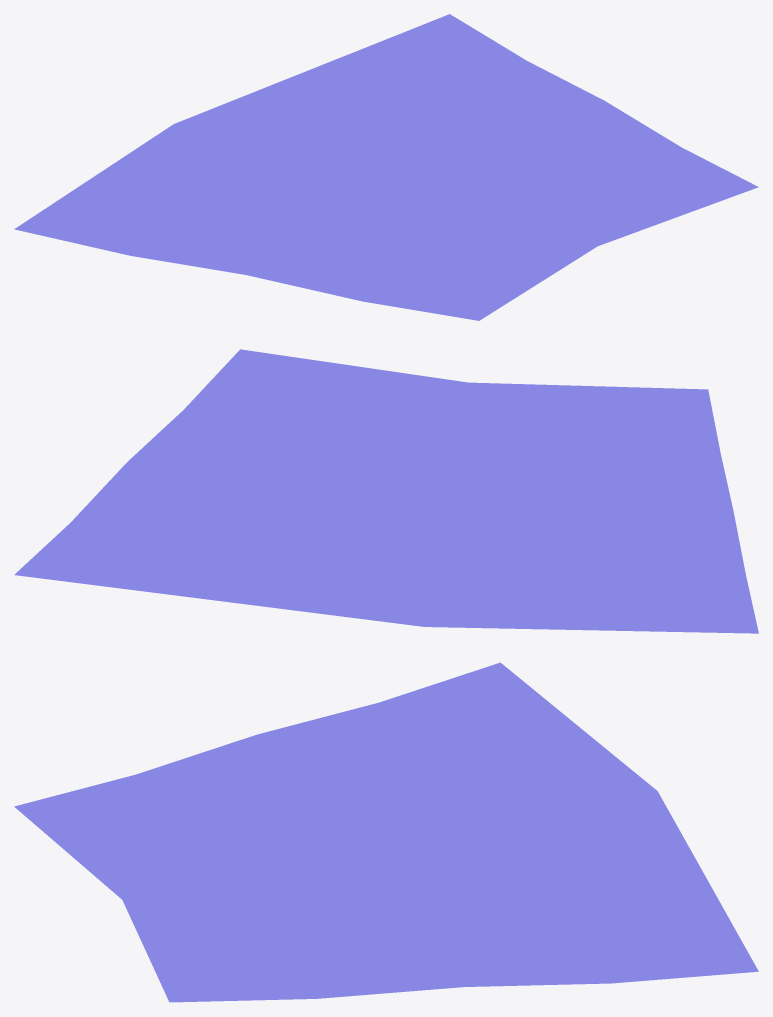
File: track_la_coll_road_25.fbx
3 renders of one model, top to bottom at view 1: azimuth 30°, elevation 25°; view 2: azimuth 150°, elevation 25°; view 3: azimuth 270°, elevation 25°, orthographic. The views are drawn at different scales.
Parts seen in each view (by area): view 1: track_la_coll_road_25; view 2: track_la_coll_road_25; view 3: track_la_coll_road_25.
Boxes of the visible parts, box(x1,y1,x2,y2) form: track_la_coll_road_25: box(14, 14, 758, 320); track_la_coll_road_25: box(14, 349, 758, 633); track_la_coll_road_25: box(14, 662, 758, 1002).
Bounding box in the file's own units: 72.11 × 0.4061 × 66.78.
